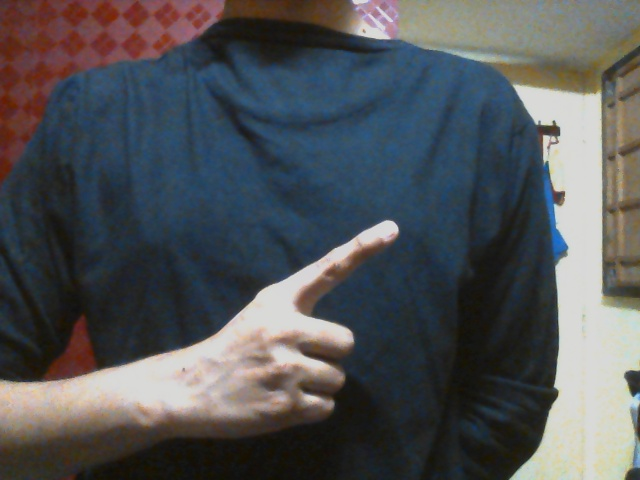I: (207, 219, 398, 441)
